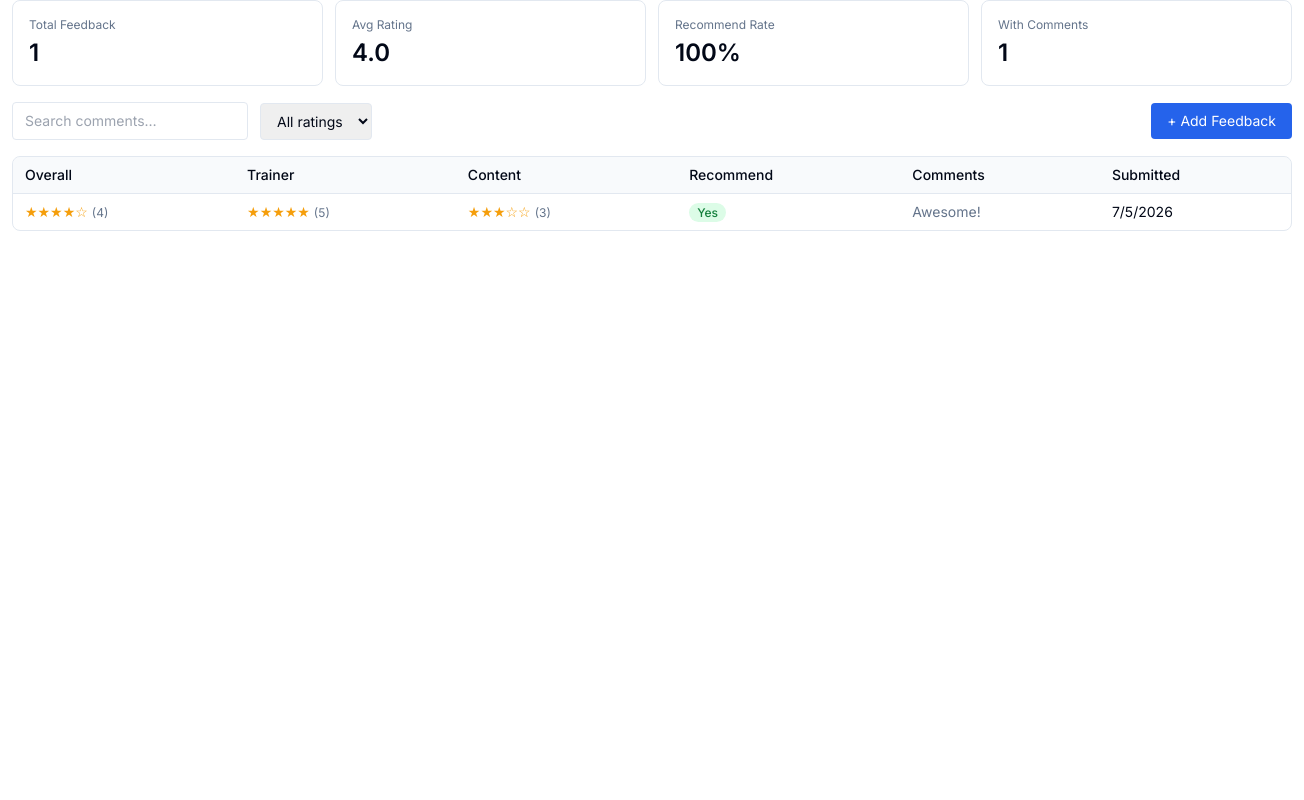
FeedbackCenter — drawer view mode › drawer shows comments when present
Click the row with test id "feedback-row" at {"x": 652, "y": 212}, box [13,194,1291,230]
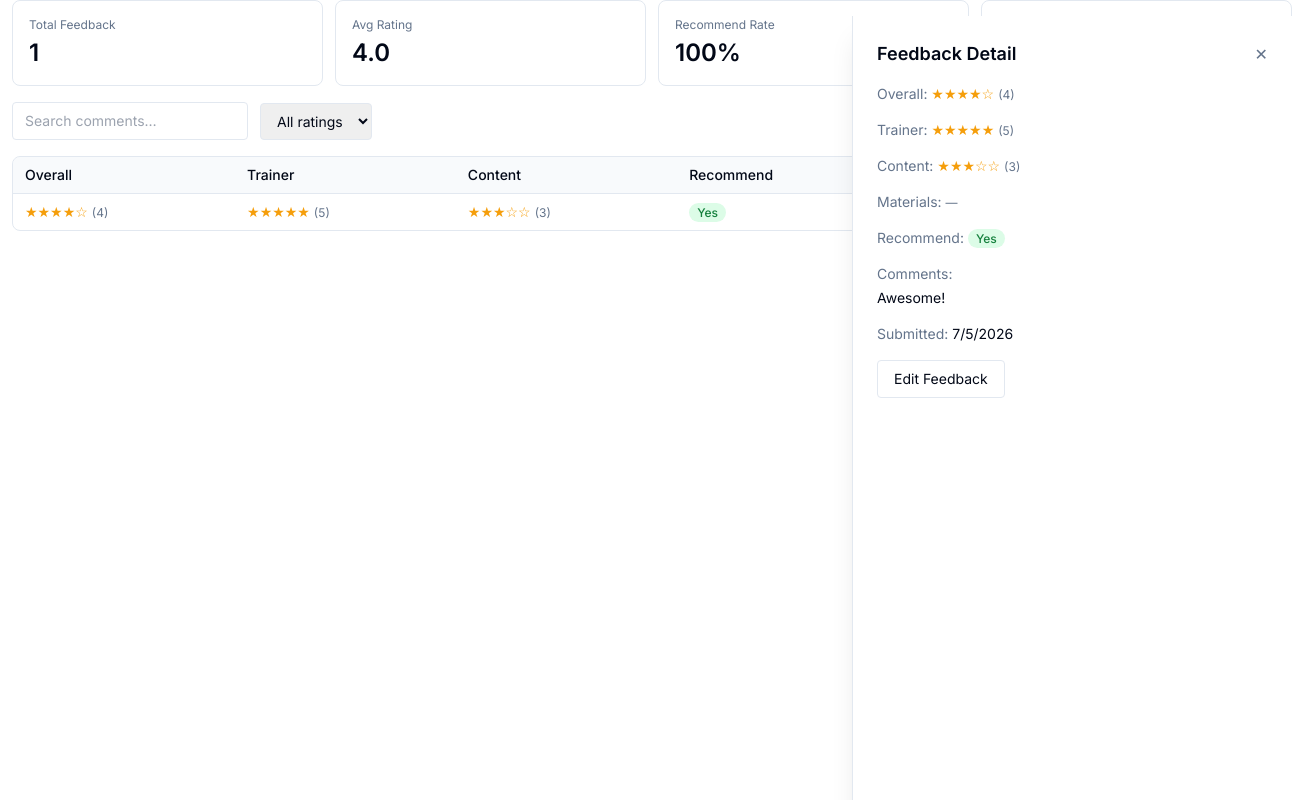
Now the text with test id "drawer-comments" reads "Awesome!", box [877,289,945,306]
